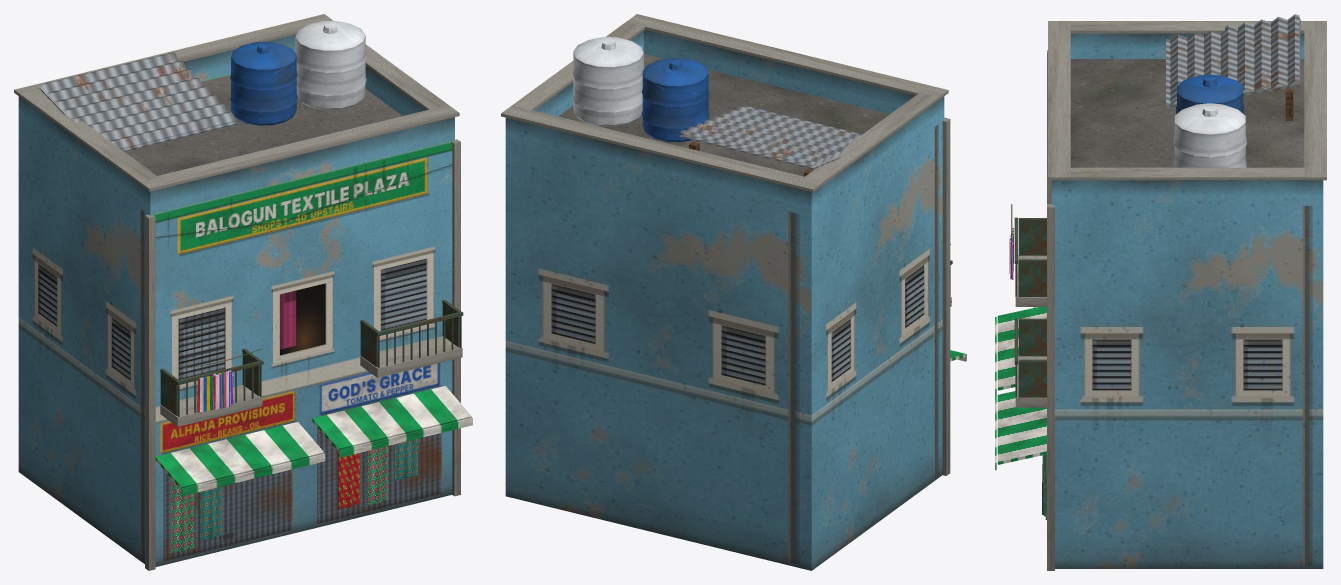
Rendered from mkt_building_b.glb.
The picture shows the model from 3 angles, left to right: view 1: azimuth 30°, elevation 25°; view 2: azimuth 150°, elevation 25°; view 3: azimuth 270°, elevation 25°; orthographic projection. The views are drawn at different scales.
Visible parts, largest first — view 1: mkt_building_b_body; view 2: mkt_building_b_body; view 3: mkt_building_b_body.
Part boxes in pixels (x1,y1,x2,y2): mkt_building_b_body: [14, 14, 472, 570]; mkt_building_b_body: [501, 14, 966, 570]; mkt_building_b_body: [995, 14, 1326, 570].
Bounding box in the file's own units: 3.28 × 4.25 × 2.93.
Materials: 1 (1 with a texture image).
